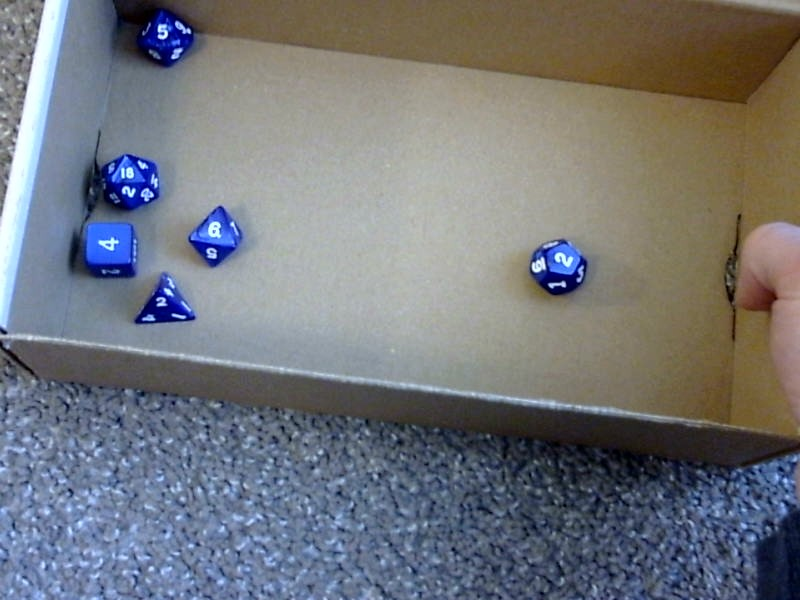d10 5: (133, 8, 203, 68)
d12 2: (524, 234, 597, 298)
d20 18: (99, 150, 165, 214)
d4 2: (135, 271, 196, 328)
d6 4: (81, 219, 143, 280)
d8 6: (186, 201, 247, 268)
